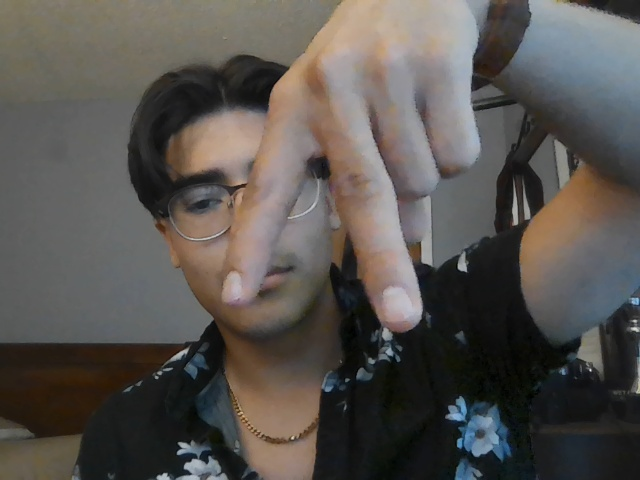Upside-down peace sign: (221, 85, 423, 332)
